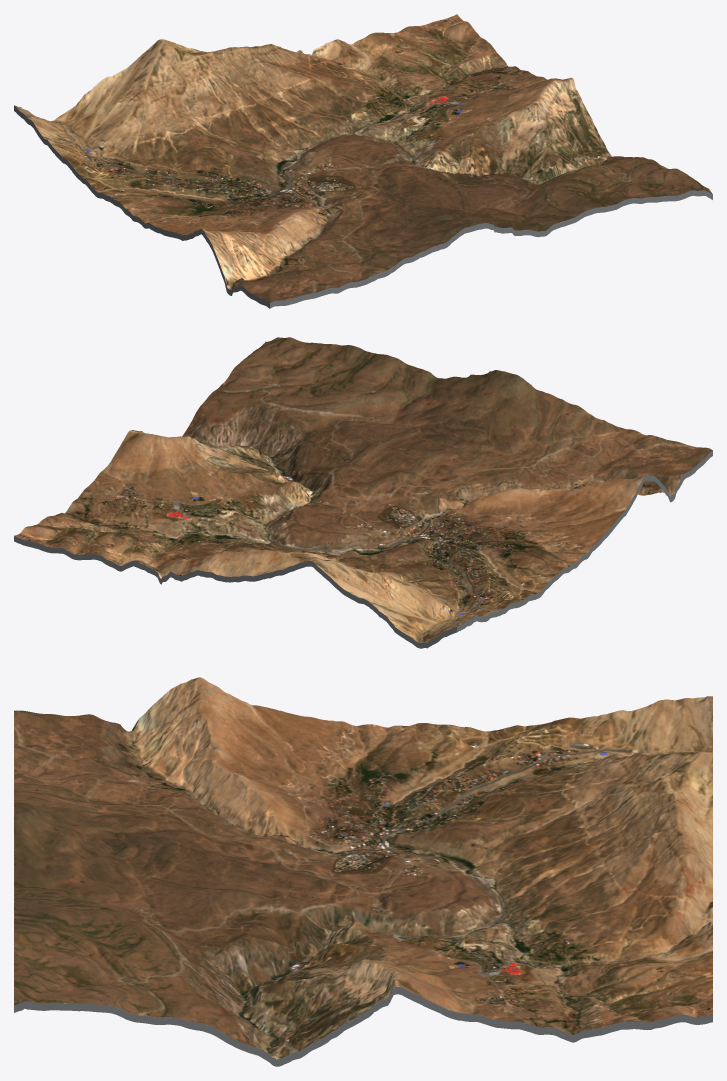
3 renders of one model, top to bottom at view 1: azimuth 30°, elevation 25°; view 2: azimuth 150°, elevation 25°; view 3: azimuth 270°, elevation 25°, orthographic. The views are drawn at different scales.
Visible parts, largest first — view 1: terrain, skirt; view 2: terrain, skirt; view 3: terrain, skirt.
Part boxes in pixels (x1,y1,x2,y2): terrain: (14, 14, 712, 302); skirt: (14, 105, 712, 308); terrain: (14, 337, 712, 642); skirt: (14, 450, 712, 648); terrain: (14, 677, 712, 1059); skirt: (14, 987, 712, 1066).
Size of the model in its own units: 7500 by 1381 by 7500.
1 material, 1 textured.
